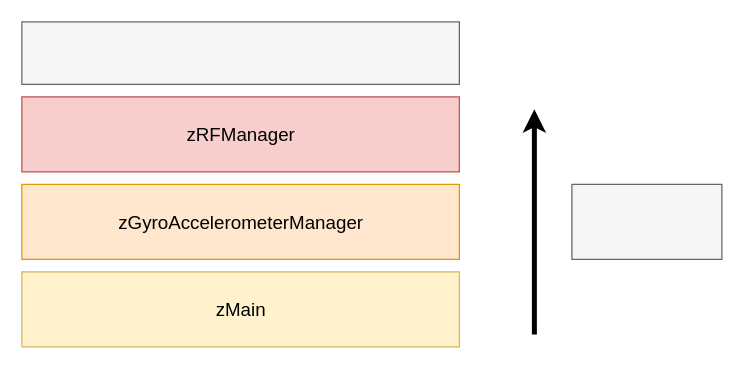
The diagram is 744 pixels wide and 369 high, and some of its shapes have lost their labels. The shapes that lost their labels are listed below. From the top down, each one's centre as x and y in pixels, then its label:
At (240,52): "Remote".
At (646,221): "Priority Level".
